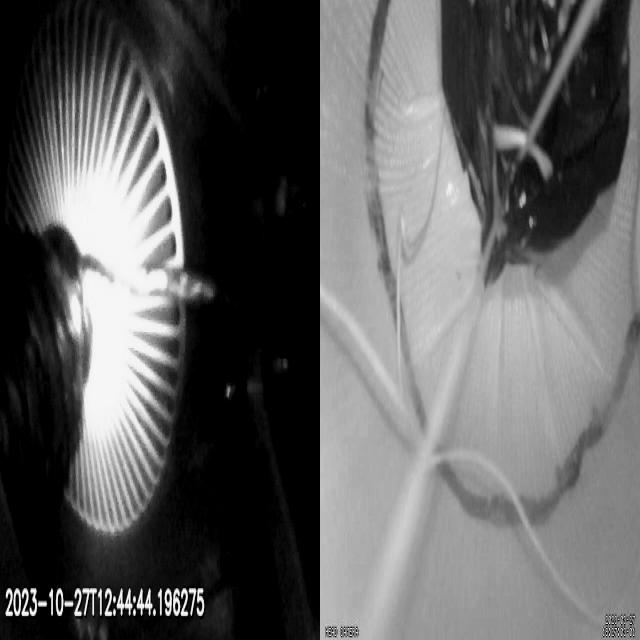red-circle: (364, 0, 640, 532)
